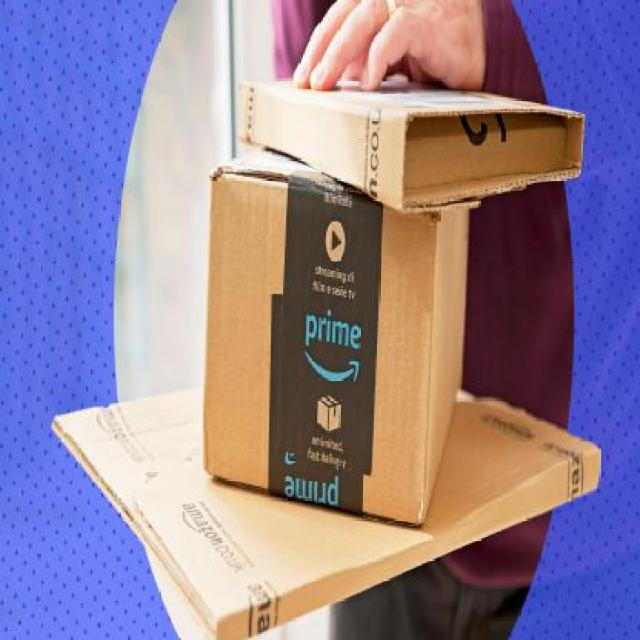cardboxes: (203, 156, 477, 530), (237, 73, 586, 216)
